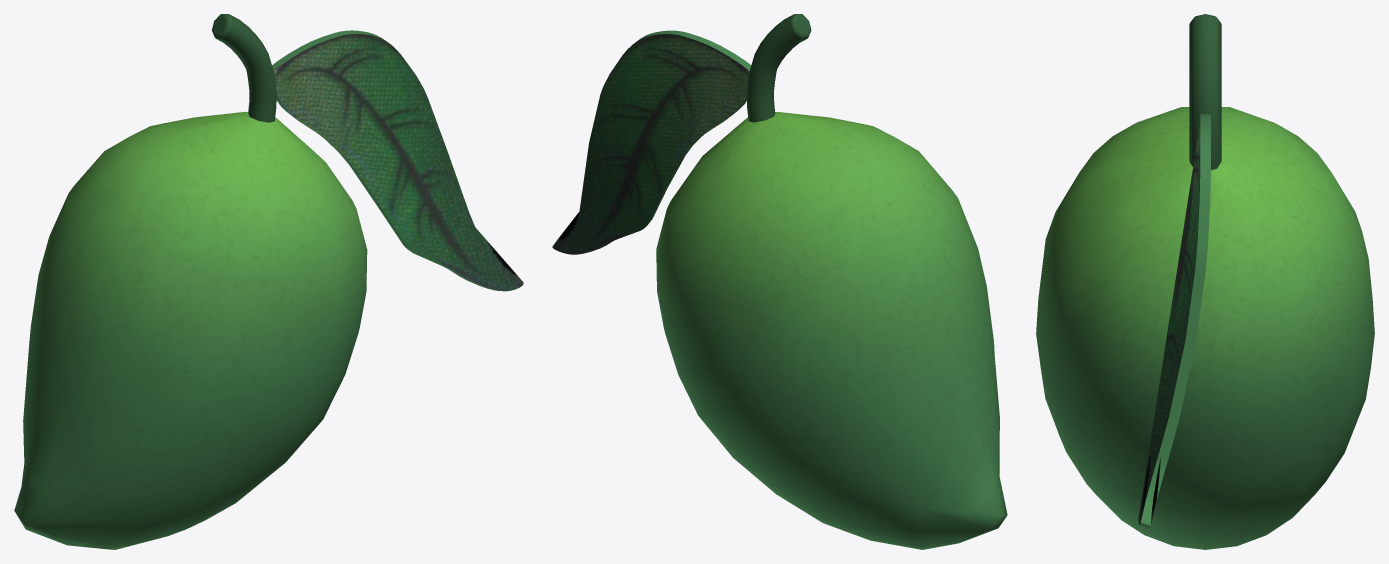
Rendered from Mango.fbx.
3 renders of one model, left to right at view 1: azimuth 30°, elevation 25°; view 2: azimuth 150°, elevation 25°; view 3: azimuth 270°, elevation 25°, orthographic. The views are drawn at different scales.
Visible parts, largest first — view 1: Mango; view 2: Mango; view 3: Mango.
Boxes of the visible parts, left/top/right/bottom form: Mango: left=14, top=14, right=523, bottom=549; Mango: left=552, top=14, right=1007, bottom=549; Mango: left=1036, top=14, right=1374, bottom=549.
Size of the model in its own units: 592 by 591 by 318.
1 material, 1 textured.
